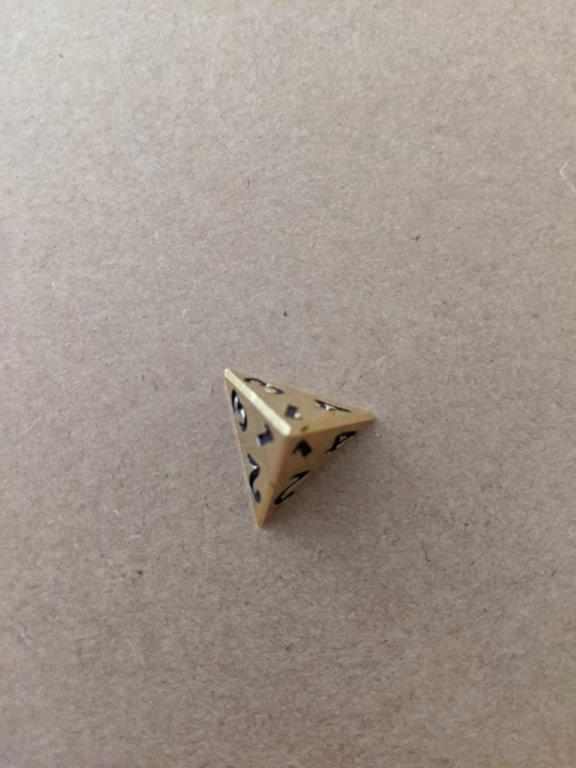d4-1: (217, 364, 379, 532)
